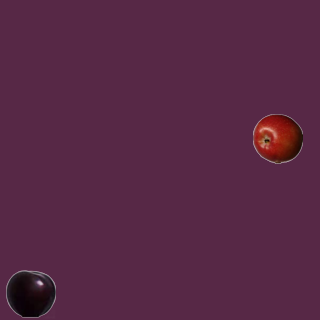Apple Braeburn: (252, 113, 302, 163)
Cherry Wax Black: (5, 268, 55, 318)
